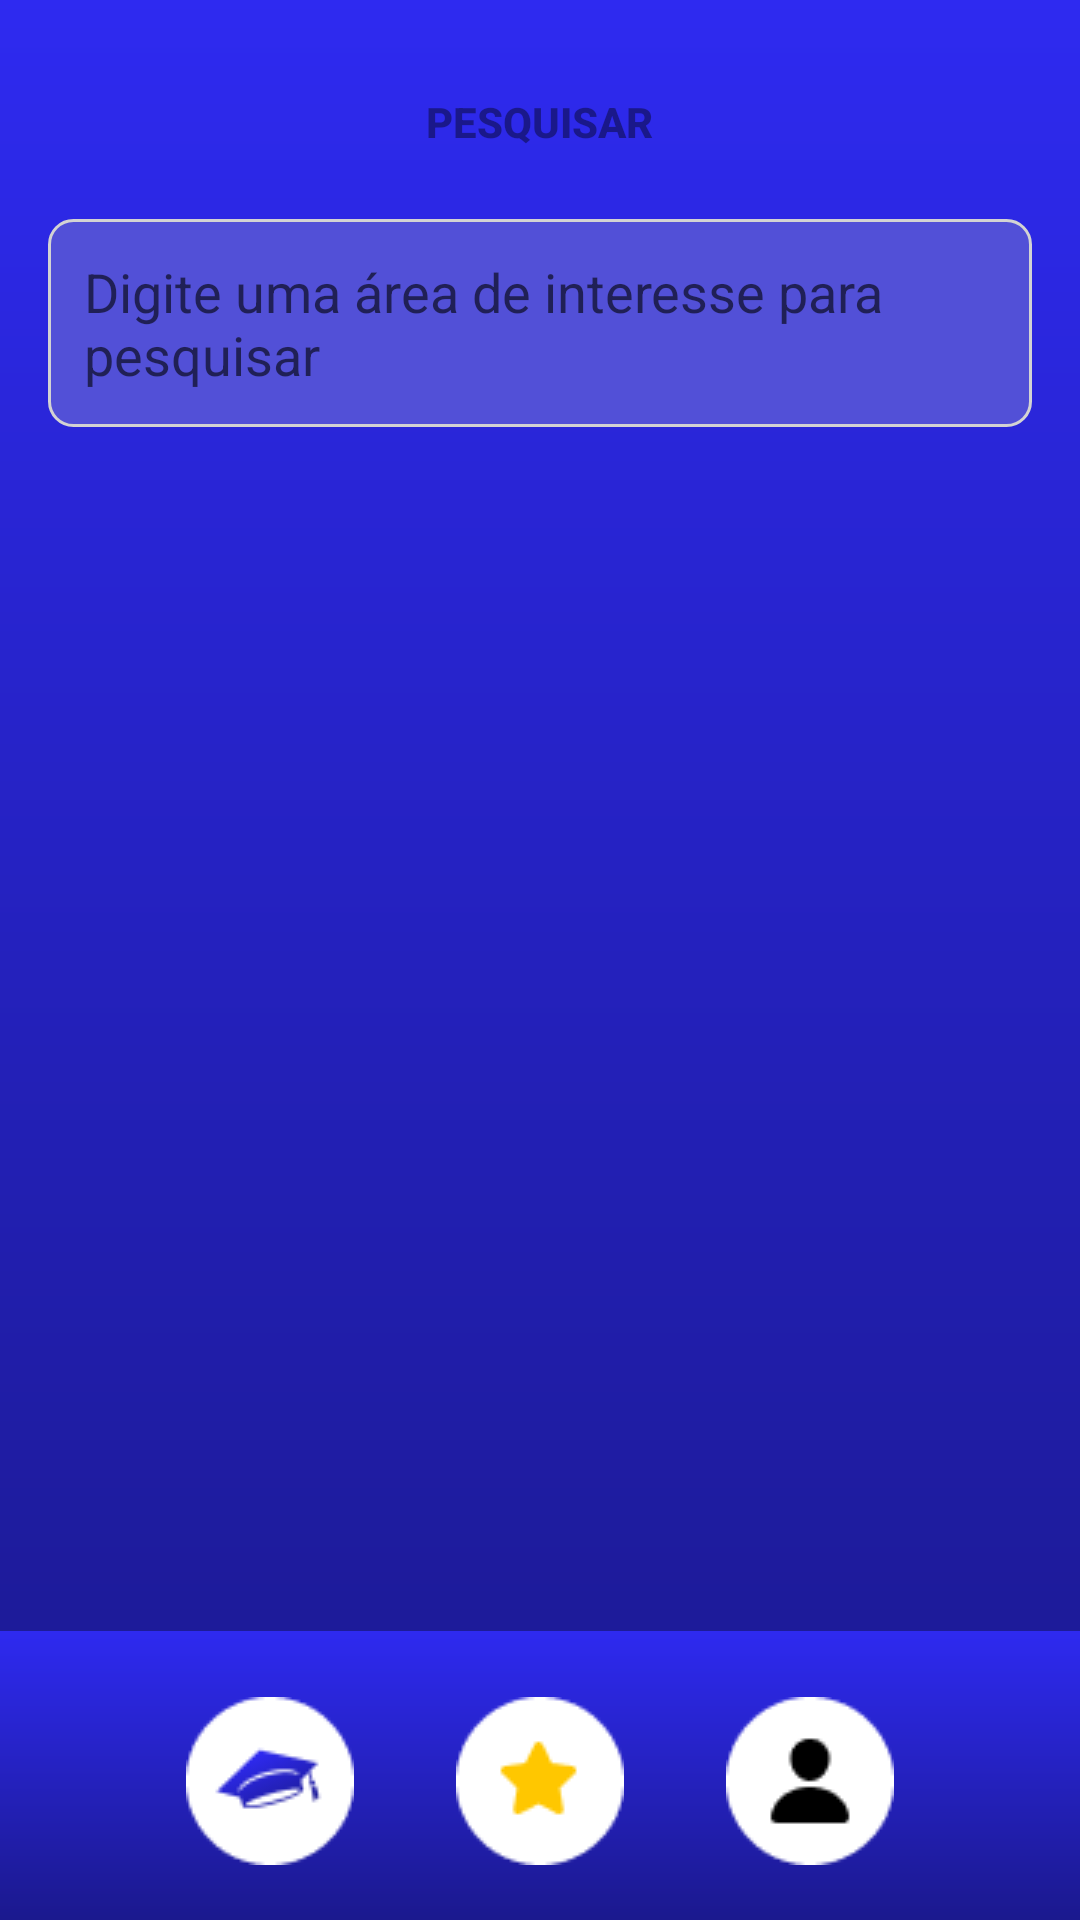

Icons on this 1080px×1920px Android screen, each with the point to tap as point (x, y):
star: point (540, 1781)
user: point (810, 1781)
